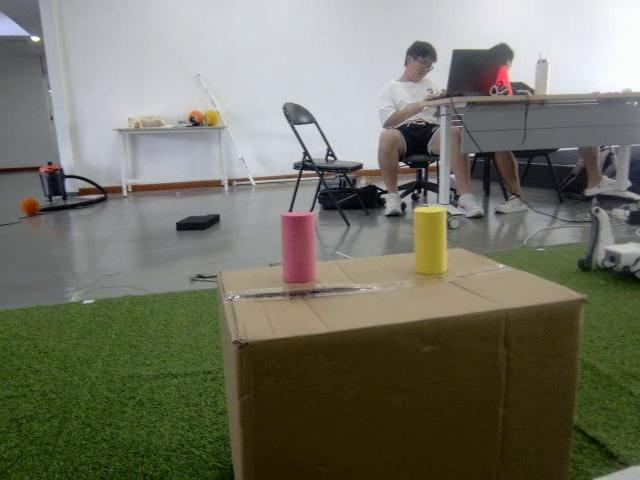red_cylinder: (280, 210, 316, 284)
yellow_cylinder: (413, 205, 448, 275)
